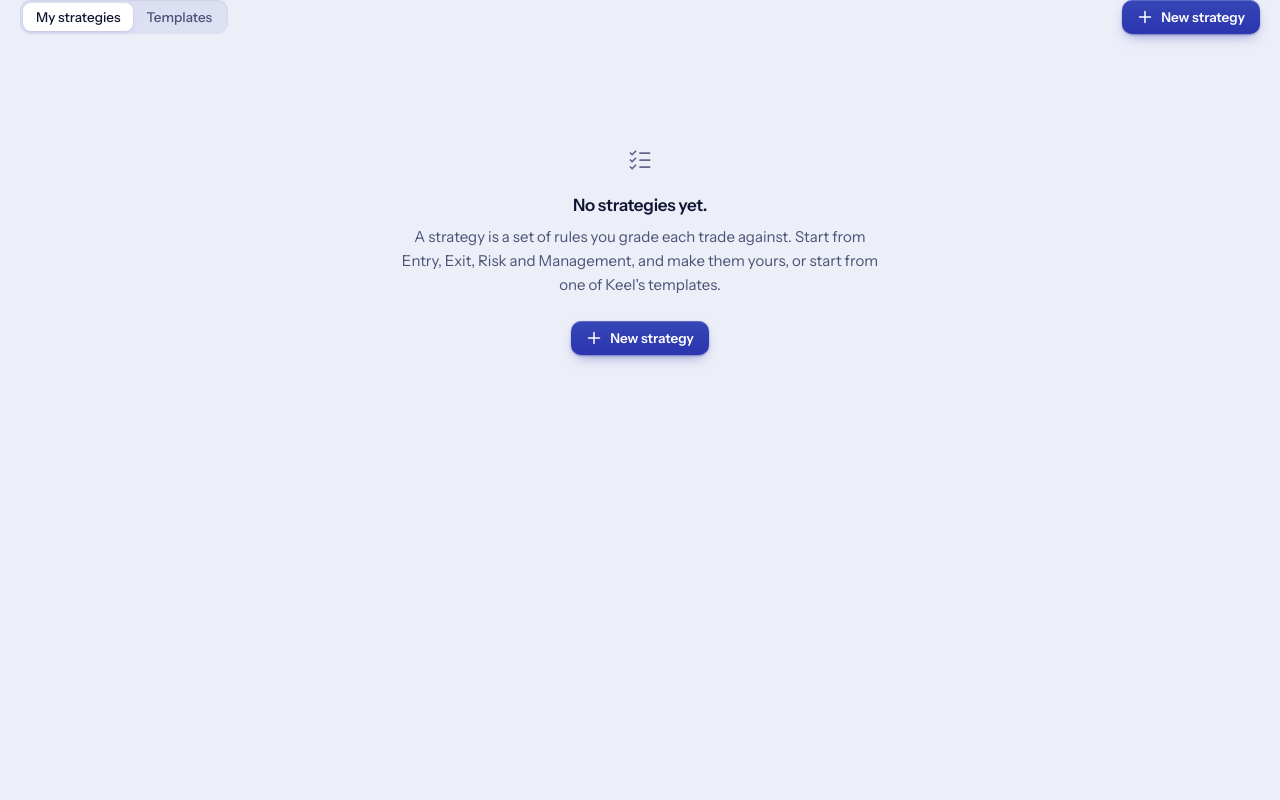
Test: with no strategies, New strategy in the empty state opens the chooser too
The width and height of the screenshot is (1280, 800).
Expected: the heading "No strategies yet." is shown, [573,194,707,217]
Expected: the tab "Templates" is shown, [134,3,225,31]
Click the button "New strategy" below "No strategies yet." at (640, 338), box [571,321,709,355]
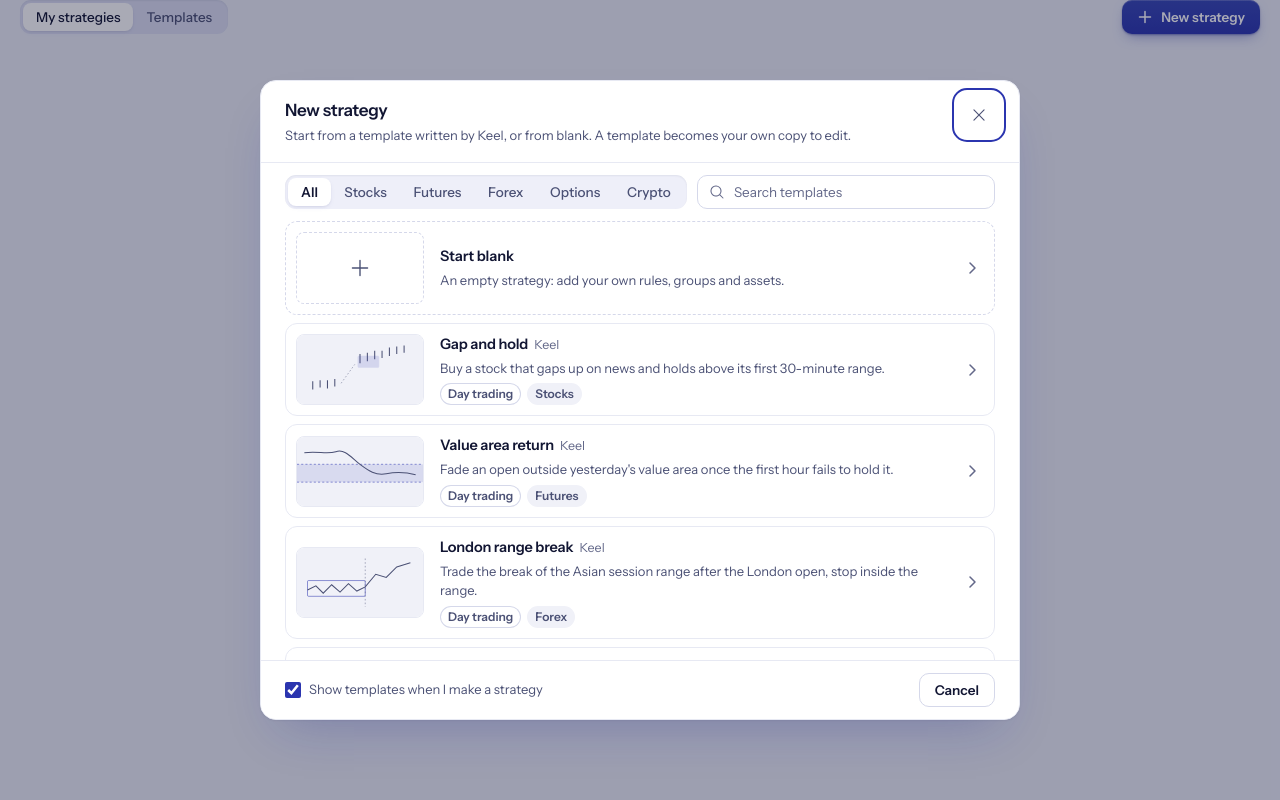
Expected: the dialog "New strategy" is shown, [260,80,1020,720]
